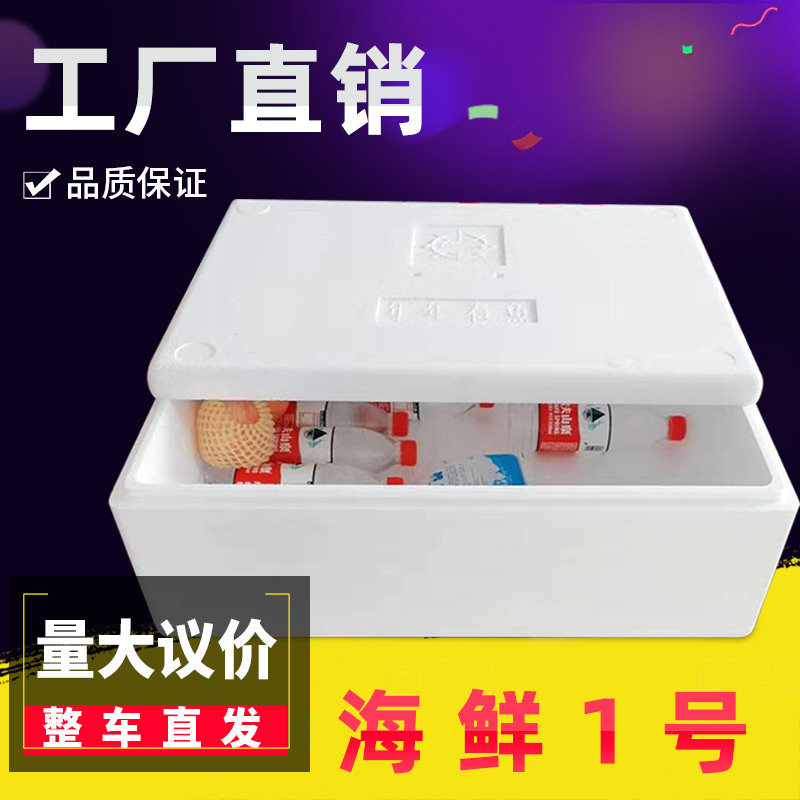泡沫箱: (110, 200, 796, 637)
